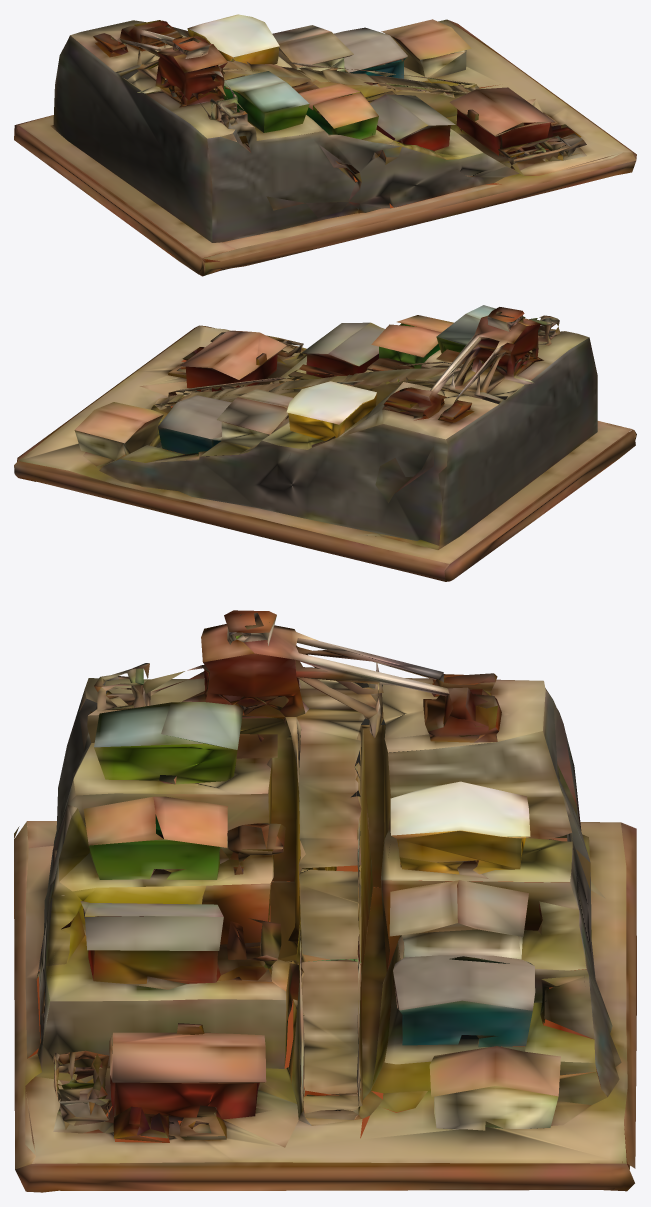
The model's file is maqueta.movil.glb.
3 views of the same model, one above another, from view 1: azimuth 30°, elevation 25°; view 2: azimuth 150°, elevation 25°; view 3: azimuth 270°, elevation 25° (orthographic). The views are drawn at different scales.
Visible parts, largest first — view 1: geometry_0; view 2: geometry_0; view 3: geometry_0.
Part boxes in pixels (x1,y1,x2,y2): geometry_0: (14,14,636,276); geometry_0: (14,305,636,581); geometry_0: (14,610,636,1192).
Bounding box in the file's own units: 1.59 × 0.5883 × 1.2.
1 material, 1 textured.
